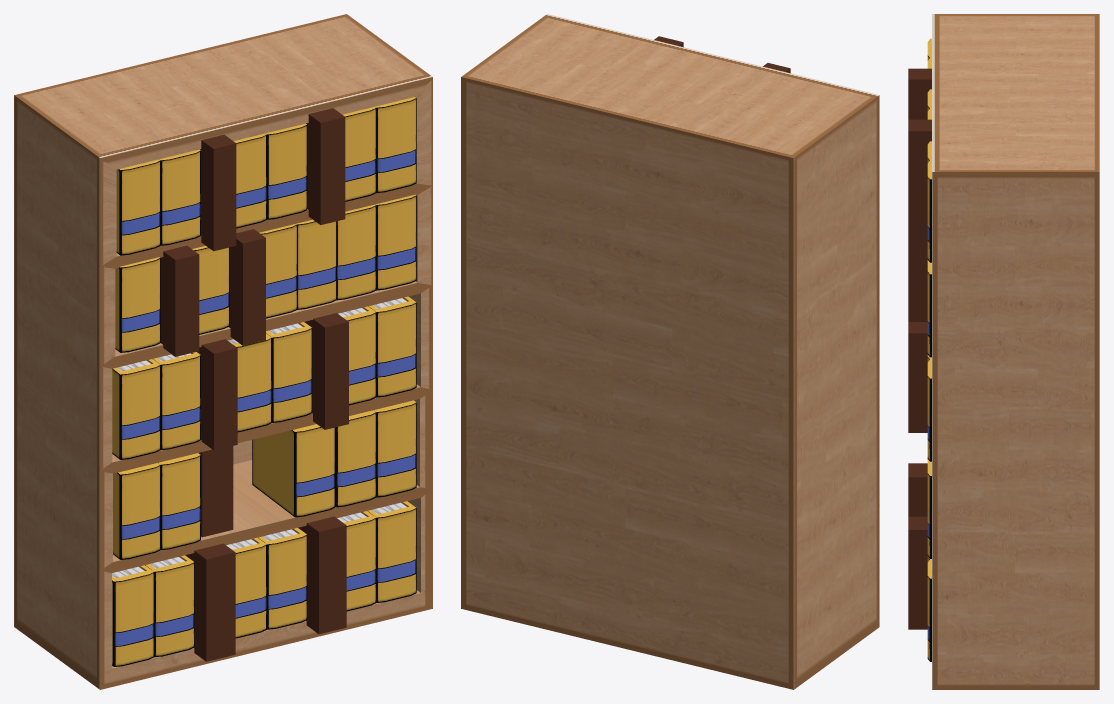
File: Bookshelf_PartialFilled_Yellow.fbx
3 views of the same model, side by side, from view 1: azimuth 30°, elevation 25°; view 2: azimuth 150°, elevation 25°; view 3: azimuth 270°, elevation 25° (orthographic). The views are drawn at different scales.
Parts seen in each view (by area): view 1: Bookshelf_Yellow; view 2: Bookshelf_Yellow; view 3: Bookshelf_Yellow.
Part boxes in pixels (x1,y1,x2,y2): Bookshelf_Yellow: [14, 14, 432, 689]; Bookshelf_Yellow: [461, 14, 879, 689]; Bookshelf_Yellow: [908, 14, 1099, 689].
Bounding box in the file's own units: 127 × 194 × 64.92.
